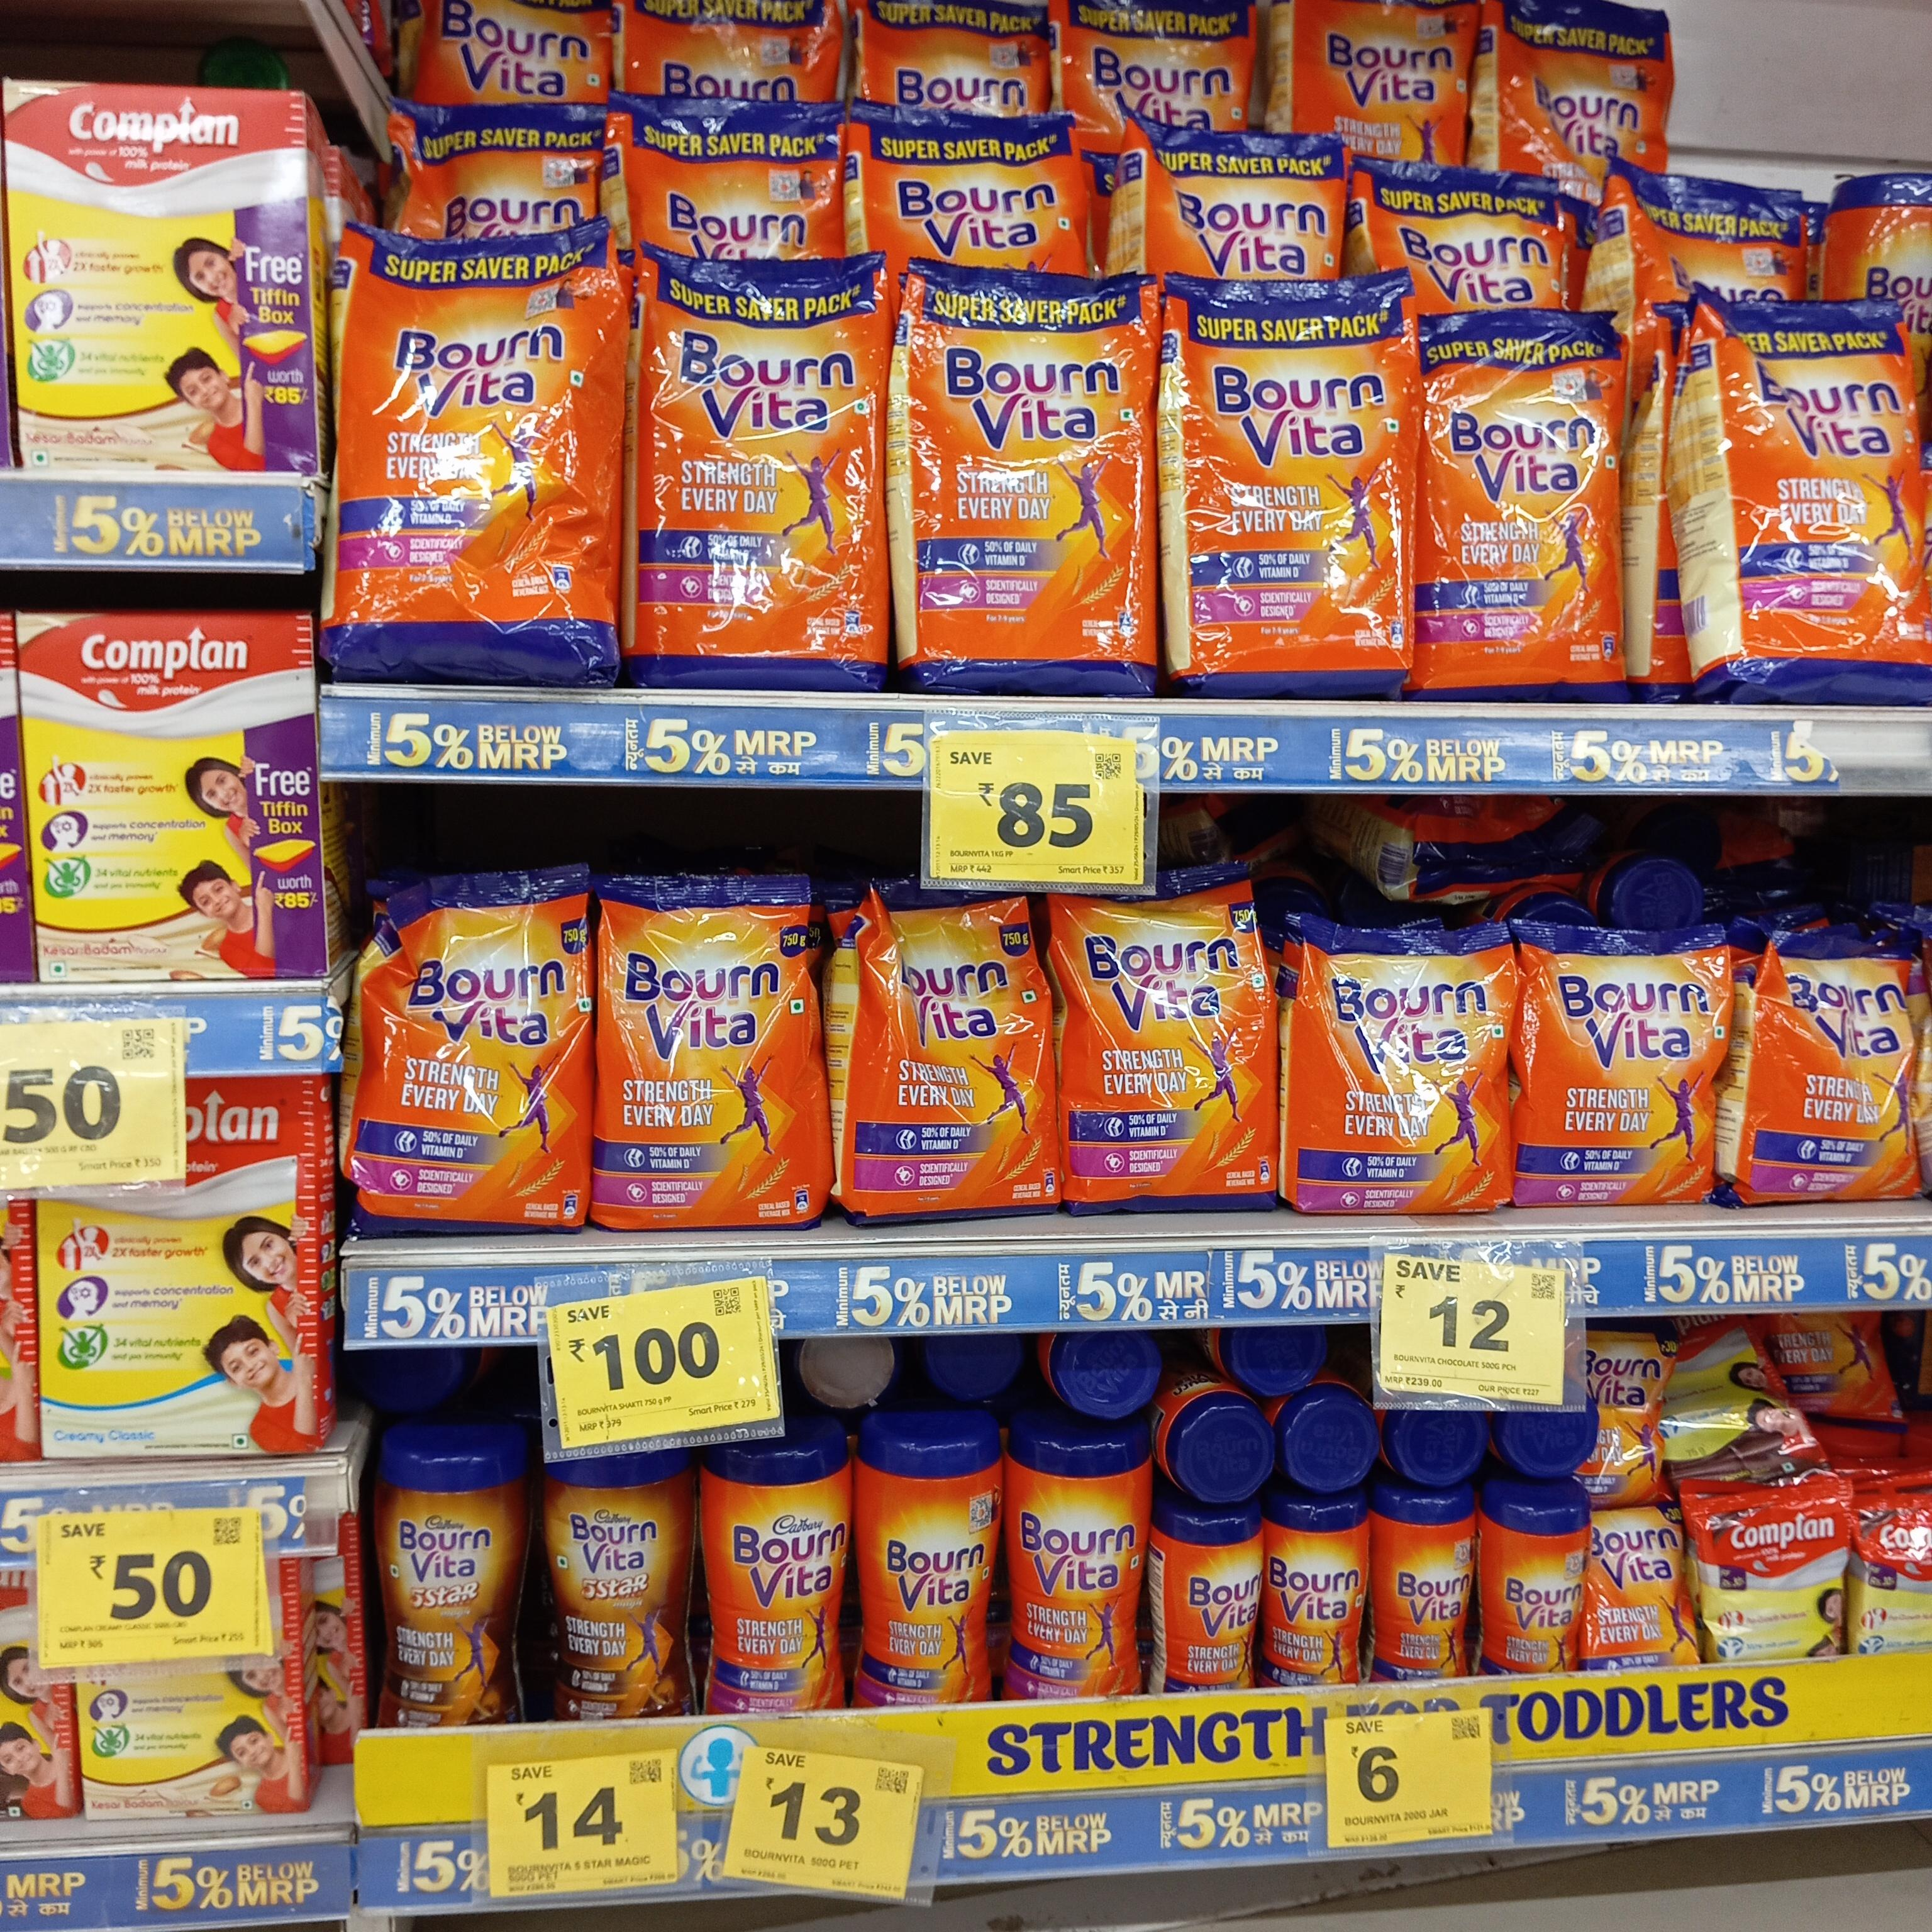BOURN_VITA_1_KG_POUCH: (329, 226, 614, 686), (640, 255, 888, 692), (918, 274, 1157, 699), (1175, 288, 1407, 699), (1730, 292, 1932, 702), (1417, 315, 1621, 702)
BOURN_VITA_200_G_JAR: (1162, 1504, 1265, 1697), (1481, 1495, 1589, 1675), (1375, 1491, 1474, 1683), (1267, 1497, 1366, 1683)
BOURN_VITA_500_G_JAR: (858, 1422, 1005, 1720), (711, 1437, 855, 1716), (1010, 1428, 1143, 1709)
BOURN_VITA_500_G_POUCH: (1299, 918, 1514, 1221), (1525, 920, 1723, 1210), (1760, 936, 1928, 1200)
BOURN_VITA_750_G_POUCH: (363, 874, 594, 1233), (598, 878, 812, 1233), (1069, 874, 1272, 1221), (865, 888, 1044, 1224)
BOURN_VITA_75_G_POUCH: (1592, 1504, 1697, 1670), (1583, 1334, 1663, 1499)
BOURN_VITA_FIVE_STAR_MAGIC_500_G_JAR: (370, 1426, 520, 1737), (540, 1447, 694, 1736)
COMPLAN_KESAR_BADAM_500_GMS_PACK: (7, 90, 303, 469), (27, 612, 317, 975)
